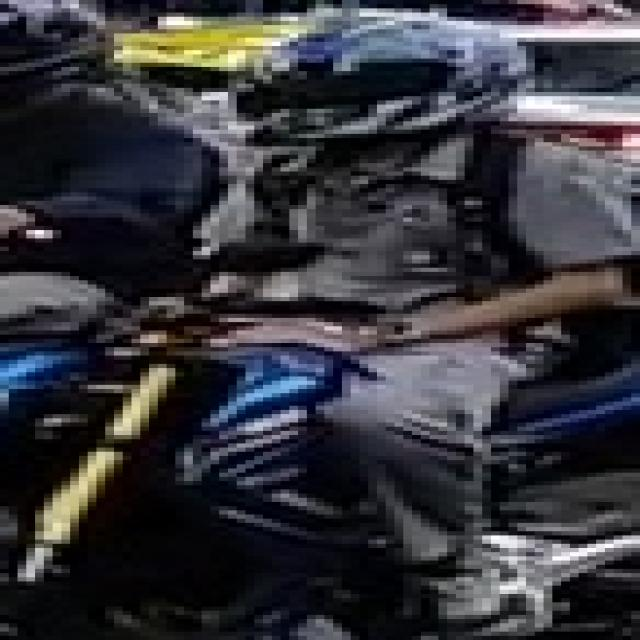helmet: (228, 8, 526, 142), (0, 0, 105, 79)
